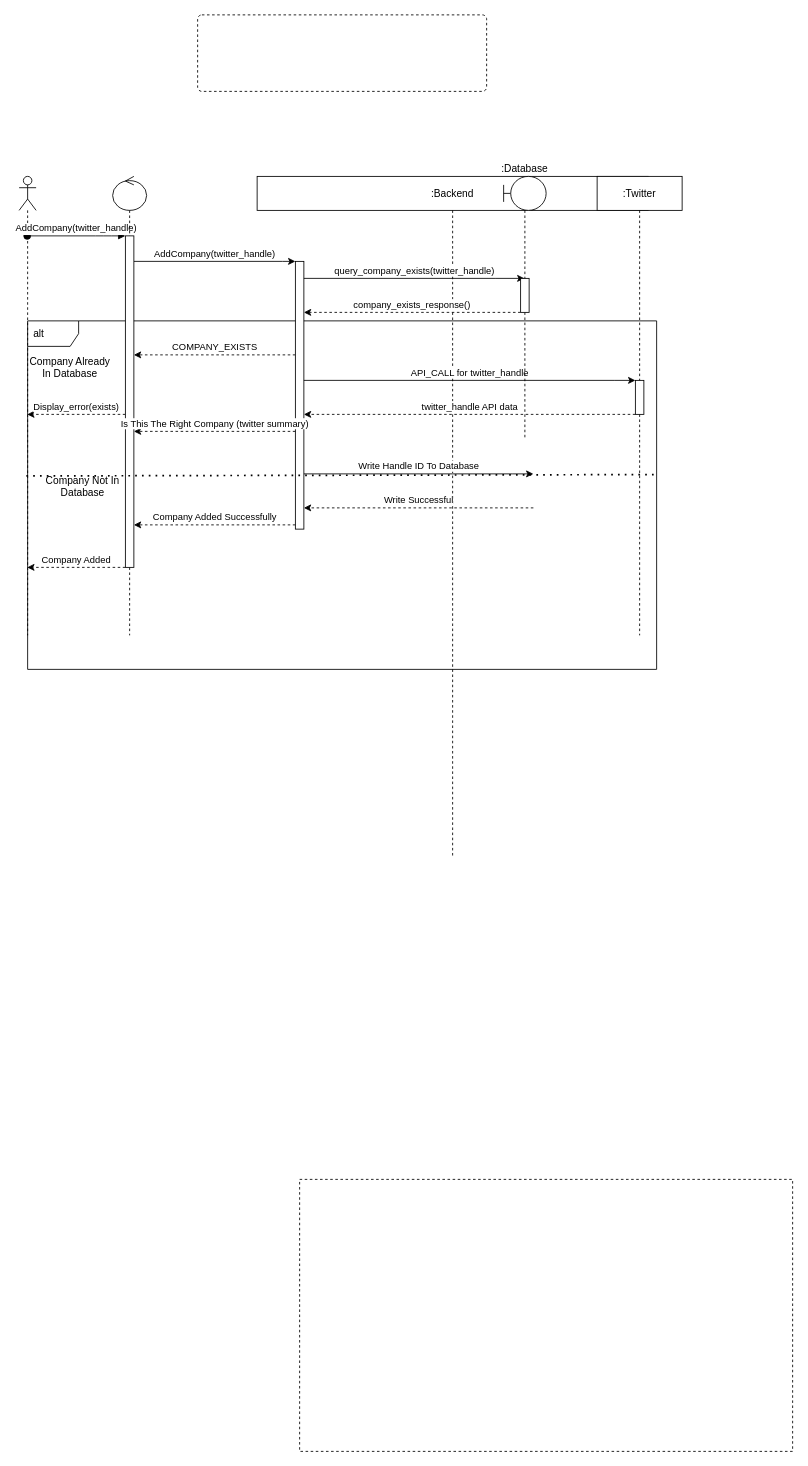
Some shapes in this 808 by 1466 pixel diagram are drawn without their labels. Here are the shapes that lost their labels. From the top down, the centre of each, then its label:
At (x=342, y=52): "Company In Database".
At (x=546, y=1315): "Company Is Not In Database".
